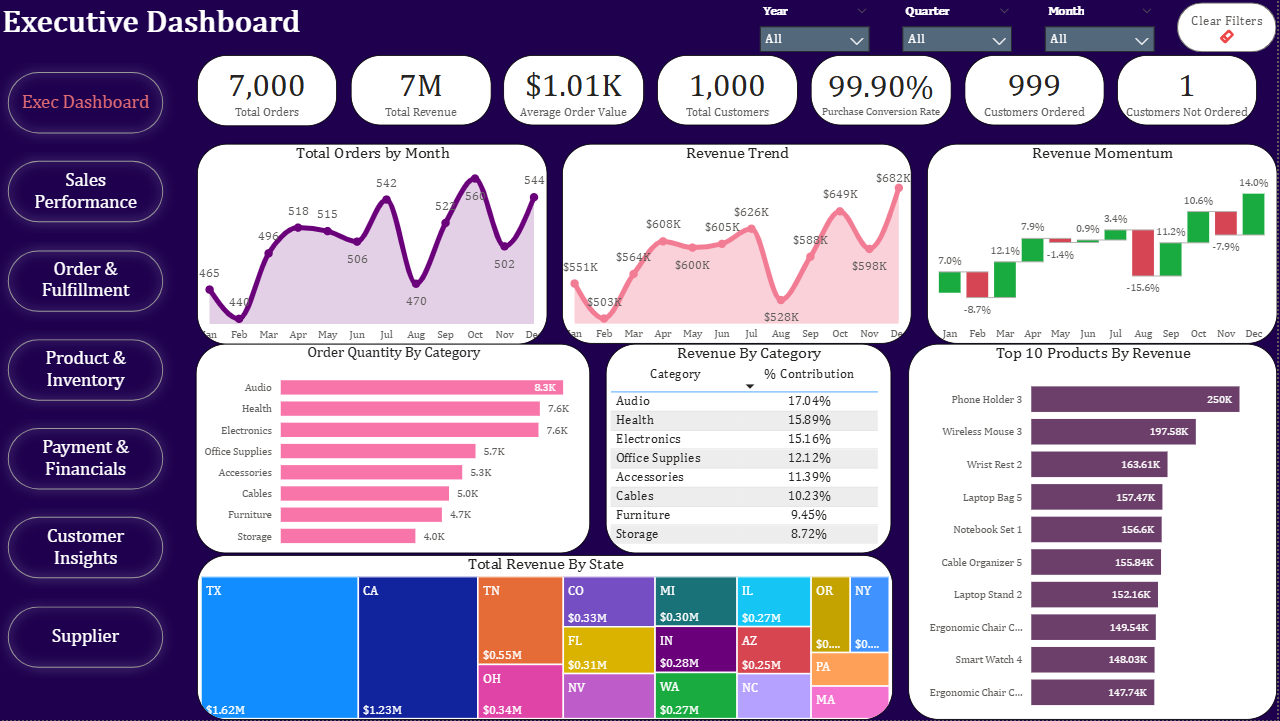

Layout of this report page (visuals, bound fields, positions):
{"tool":"powerbi","page":{"name":"Exec Dashboard","canvas":[1280,720],"ordinal":0},"visuals":[{"type":"textbox","title":"Header Text Box","box":[0,0,313.5,51],"z":0},{"type":"pageNavigator","box":[0,61,177.9,620],"z":1000},{"type":"slicer","title":"Year","fields":{"Values":["Calendar.Year"]},"box":[752,0,130,55],"z":2000},{"type":"slicer","title":"Quarter","fields":{"Values":["Calendar.Quarter1"]},"box":[894.6,0,130,55],"z":3000},{"type":"slicer","title":"Month Slicer","fields":{"Values":["Calendar.Month Name"]},"box":[1037.2,0,130,55],"z":4000},{"type":"actionButton","box":[1180.5,2.5,99.5,49.8],"z":5000},{"type":"card","fields":{"Values":["Customer Insights Measures.Purchase Conversion Rate"]},"box":[814,54.7,140.6,70.3],"z":6000},{"type":"card","fields":{"Values":["orders.Total Orders"]},"box":[200.3,54.7,140,70.9],"z":7000},{"type":"card","fields":{"Values":["Exec Measures.Total Revenue"]},"box":[353.2,54.7,140.6,70.3],"z":8000},{"type":"card","fields":{"Values":["All Measures.Total Customers"]},"box":[660.4,54.7,140.6,70.3],"z":9000},{"type":"card","fields":{"Values":["All Measures.Customers Ordered"]},"box":[967.6,54.7,140,70.3],"z":10000},{"type":"card","fields":{"Values":["All Measures.Customers Never Ordered"]},"box":[1120.6,54.7,140,70],"z":11000},{"type":"card","fields":{"Values":["All Measures.AOV"]},"box":[506.8,54.7,140.6,70.3],"z":12000},{"type":"lineChart","fields":{"Y":["All Measures.Total Orders"],"Category":["Calendar.Year","Calendar.Quarter1","Calendar.Month Name"]},"box":[200.5,143.3,350,200.6],"z":13000},{"type":"lineChart","title":"Revenue Trend","fields":{"Y":["All Measures.Total Revenue"],"Category":["Calendar.Year","Calendar.Quarter1","Calendar.Month Name"]},"box":[565.3,144,349.8,200.3],"z":14000},{"type":"clusteredBarChart","title":"Order Quantity By Category","fields":{"Category":["products.category"],"Y":["Sum(order_details.quantity)"]},"box":[198.1,344.3,394.3,209.7],"z":15000},{"type":"treemap","title":"Total Revenue By State","fields":{"Group":["customers.state"],"Values":["Exec Measures.Total Revenue"]},"box":[200,555,696.2,165],"z":16000},{"type":"waterfallChart","title":"Revenue Momentum","fields":{"Category":["Calendar.Month Name"],"Y":["Exec Measures.Revenue MoM Growth %"]},"box":[930,143.8,350,200],"z":17000},{"type":"tableEx","title":"Revenue By Category","fields":{"Values":["products.category","Exec Measures.Category Revenue"]},"box":[609.2,344.3,285.2,209.7],"z":18000},{"type":"clusteredBarChart","title":"Top 10 Products By Revenue","fields":{"Category":["products.product_name"],"Y":["Sum(order_details.line_total)"]},"box":[911.2,343.8,368.8,376.2],"z":19000}]}

Visuals, with their boxes in screenshot pixels (x1, y1, x2, y2), scaled from the page's 1280x720 canvas onto the 1280x721 screenshot:
"Header Text Box" textbox: <bbox>0, 0, 314, 51</bbox>
pageNavigator: <bbox>0, 61, 178, 682</bbox>
"Year" slicer: <bbox>752, 0, 882, 55</bbox>
"Quarter" slicer: <bbox>895, 0, 1025, 55</bbox>
"Month Slicer" slicer: <bbox>1037, 0, 1167, 55</bbox>
actionButton: <bbox>1180, 3, 1279, 52</bbox>
card - Customer Insights Measures.Purchase Conversion Rate: <bbox>814, 55, 955, 125</bbox>
card - orders.Total Orders: <bbox>200, 55, 340, 126</bbox>
card - Exec Measures.Total Revenue: <bbox>353, 55, 494, 125</bbox>
card - All Measures.Total Customers: <bbox>660, 55, 801, 125</bbox>
card - All Measures.Customers Ordered: <bbox>968, 55, 1108, 125</bbox>
card - All Measures.Customers Never Ordered: <bbox>1121, 55, 1261, 125</bbox>
card - All Measures.AOV: <bbox>507, 55, 647, 125</bbox>
lineChart - All Measures.Total Orders x Calendar.Year: <bbox>200, 143, 550, 344</bbox>
"Revenue Trend" lineChart: <bbox>565, 144, 915, 345</bbox>
"Order Quantity By Category" clusteredBarChart: <bbox>198, 345, 592, 555</bbox>
"Total Revenue By State" treemap: <bbox>200, 556, 896, 720</bbox>
"Revenue Momentum" waterfallChart: <bbox>930, 144, 1279, 344</bbox>
"Revenue By Category" tableEx: <bbox>609, 345, 894, 555</bbox>
"Top 10 Products By Revenue" clusteredBarChart: <bbox>911, 344, 1279, 720</bbox>
